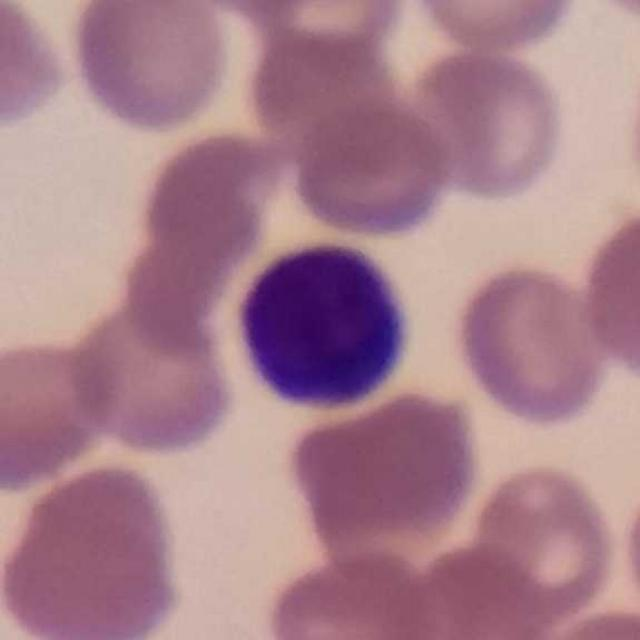Lymphocyte: (221, 229, 422, 420)
RBC: (0, 458, 189, 640), (284, 384, 485, 551), (446, 257, 614, 431), (66, 294, 240, 460), (403, 43, 572, 206), (463, 460, 620, 628), (288, 95, 456, 242), (63, 1, 236, 138), (134, 124, 287, 262), (0, 322, 121, 495), (254, 31, 402, 171), (258, 545, 446, 640), (388, 538, 555, 640), (573, 200, 640, 388), (240, 0, 413, 66), (0, 1, 76, 138), (406, 0, 584, 55), (522, 604, 640, 640), (619, 28, 640, 221), (616, 468, 640, 633)
